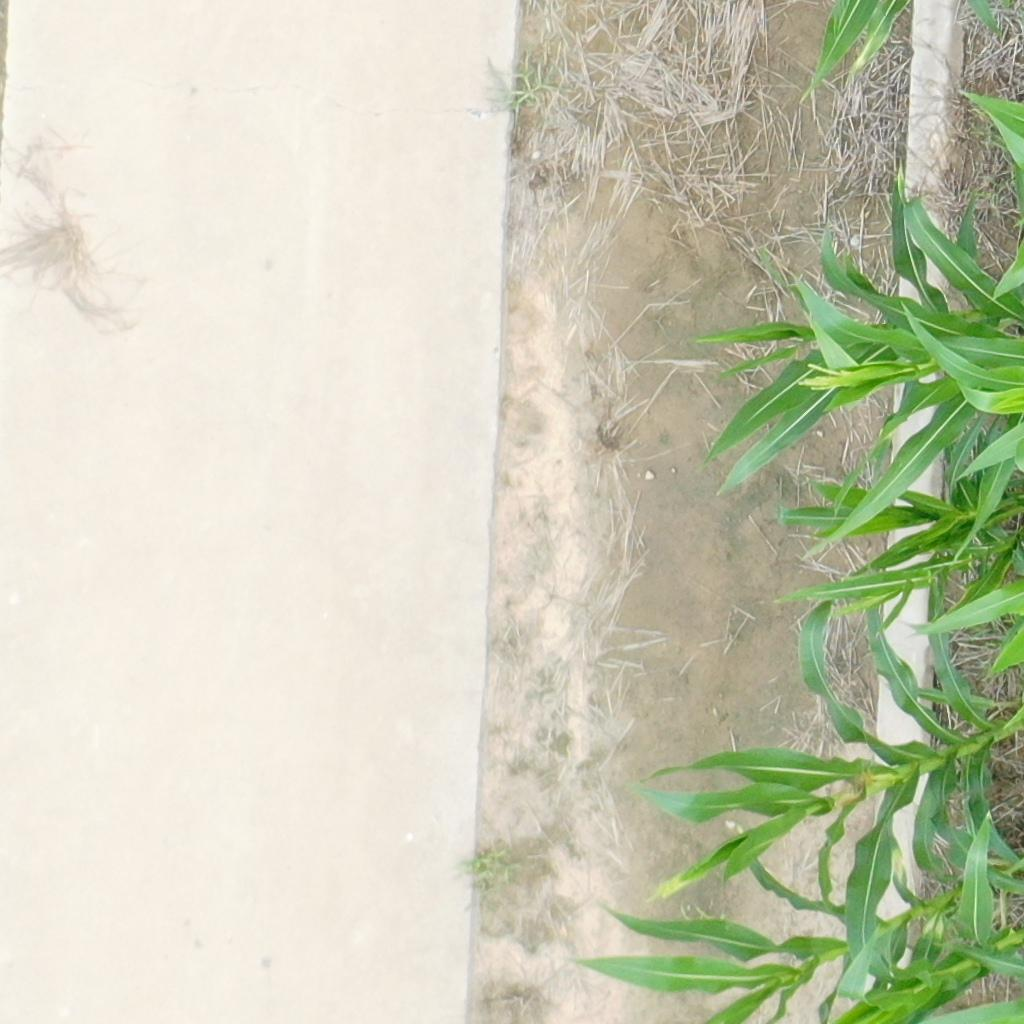Tassel: (644, 871, 702, 909), (799, 365, 857, 396)
